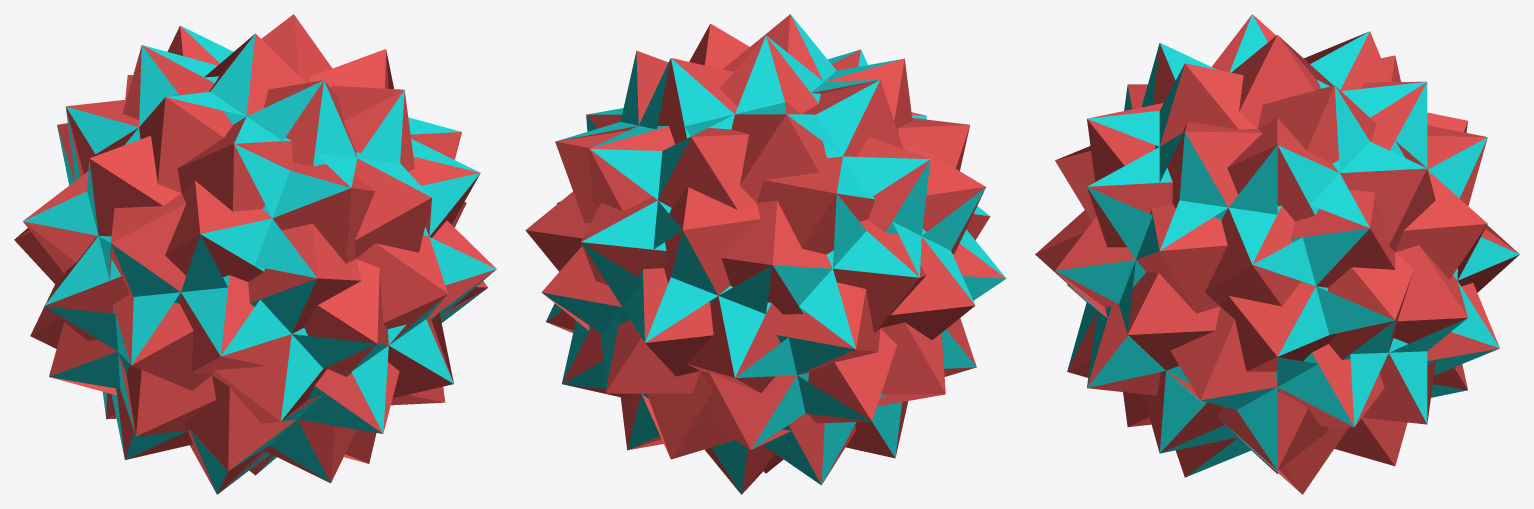
File: great_snub_icosidisdodecahedron.obj
3 renders of one model, left to right at view 1: azimuth 30°, elevation 25°; view 2: azimuth 150°, elevation 25°; view 3: azimuth 270°, elevation 25°, orthographic.
Visible parts, largest first — view 1: Shape_IndexedFaceSet.001, Shape_IndexedFaceSet; view 2: Shape_IndexedFaceSet.001, Shape_IndexedFaceSet; view 3: Shape_IndexedFaceSet.001, Shape_IndexedFaceSet.
Boxes of the visible parts, bbox=[...] form: Shape_IndexedFaceSet.001: bbox=[14, 14, 496, 494]; Shape_IndexedFaceSet: bbox=[23, 26, 496, 494]; Shape_IndexedFaceSet.001: bbox=[525, 14, 1005, 494]; Shape_IndexedFaceSet: bbox=[542, 15, 1006, 494]; Shape_IndexedFaceSet.001: bbox=[1035, 14, 1519, 494]; Shape_IndexedFaceSet: bbox=[1039, 14, 1519, 488].
Size of the model in its own units: 2.83 by 2.83 by 2.83.
